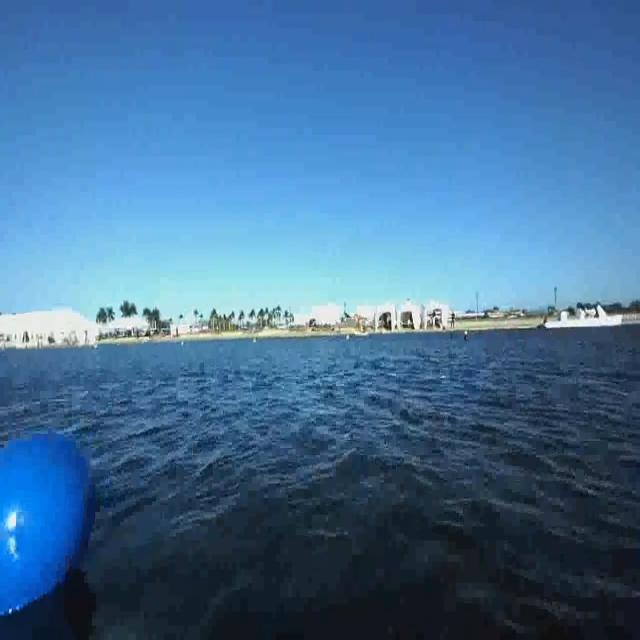blue-buoy: (0, 426, 99, 628)
